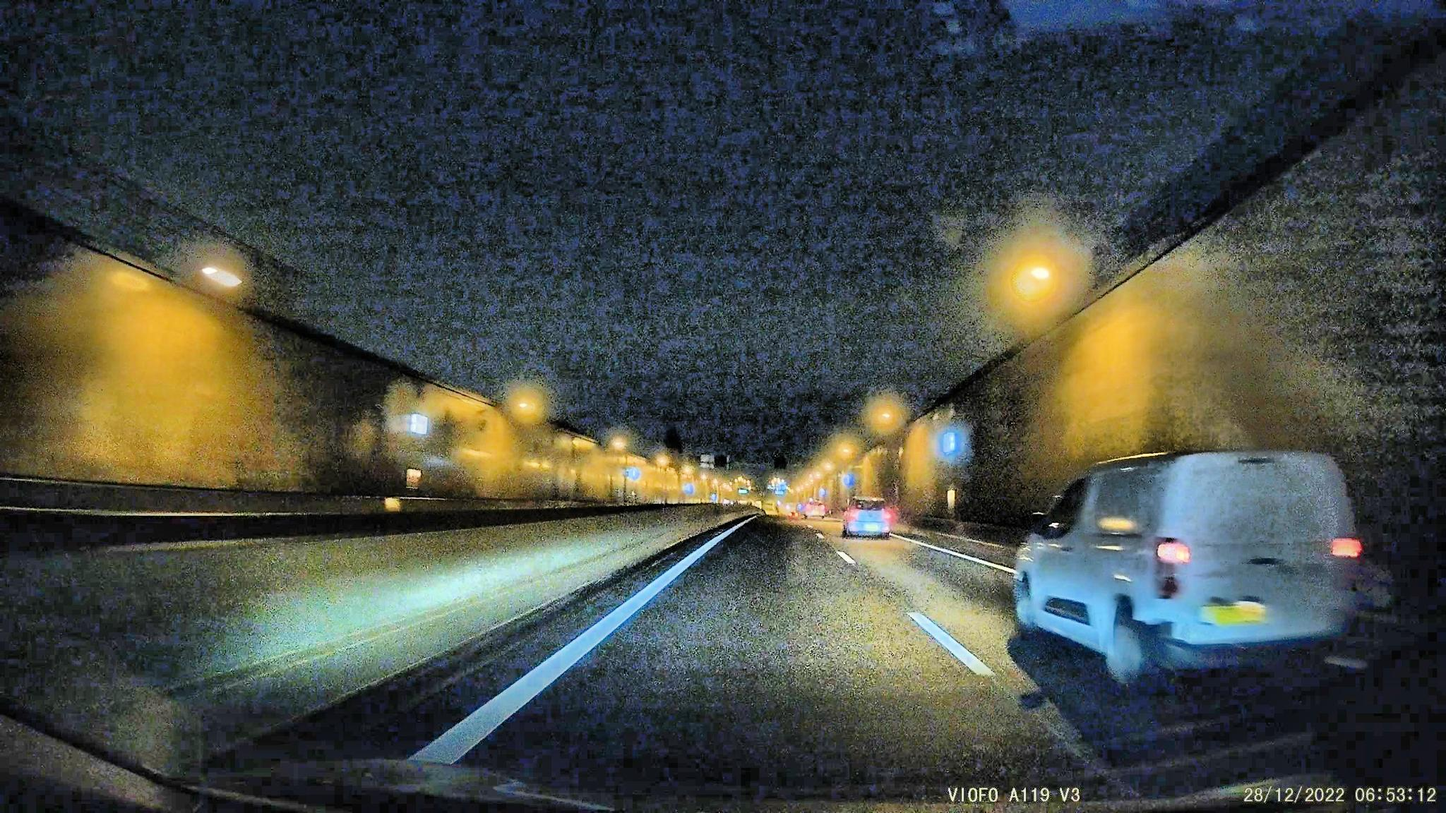Roads: (79, 524, 1446, 813)
